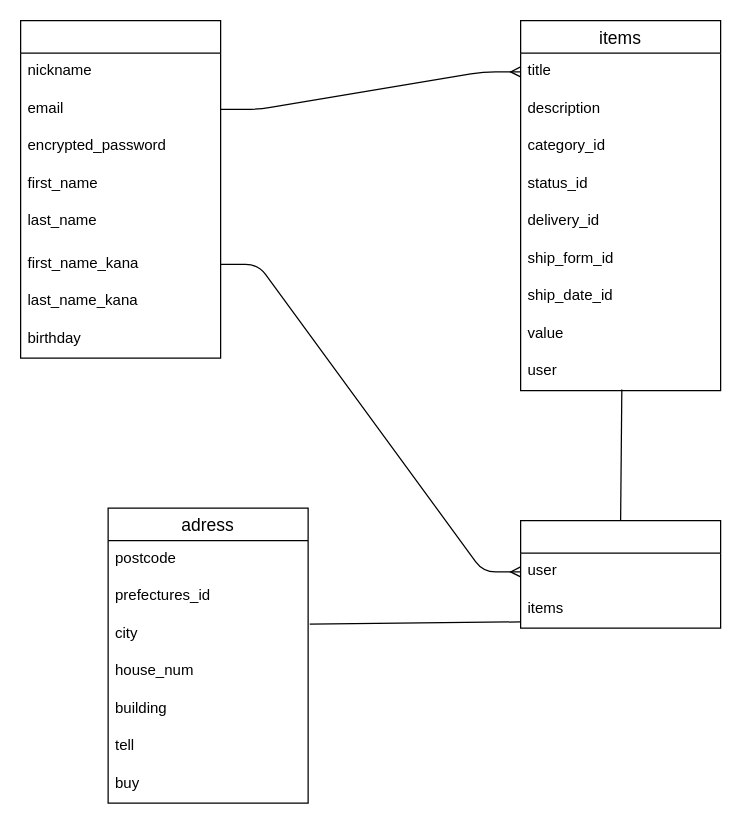
Image size: 741x824. Some labels were removed from this diagram. Each missing label, with the box of its shape:
buys: (519, 519, 721, 628)
users: (19, 19, 221, 358)
